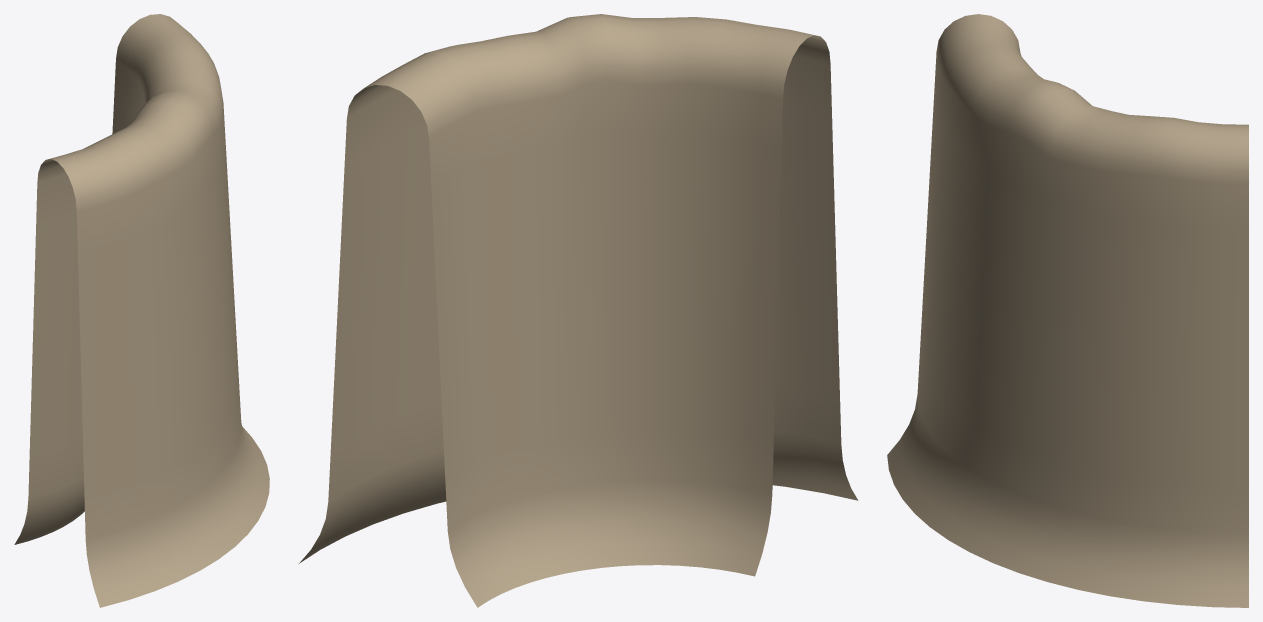
File: KFB_Wall_curved_quarter.r1.glb
3 views of the same model, side by side, from view 1: azimuth 30°, elevation 25°; view 2: azimuth 150°, elevation 25°; view 3: azimuth 270°, elevation 25° (orthographic). The views are drawn at different scales.
Visible parts, largest first — view 1: KFB_Wall_curved_quarter; view 2: KFB_Wall_curved_quarter; view 3: KFB_Wall_curved_quarter.
Part boxes in pixels (x1,y1,x2,y2): KFB_Wall_curved_quarter: (14,14,269,607); KFB_Wall_curved_quarter: (299,14,858,607); KFB_Wall_curved_quarter: (887,14,1248,607).
Size of the model in its own units: 2.68 by 3.64 by 2.68.
